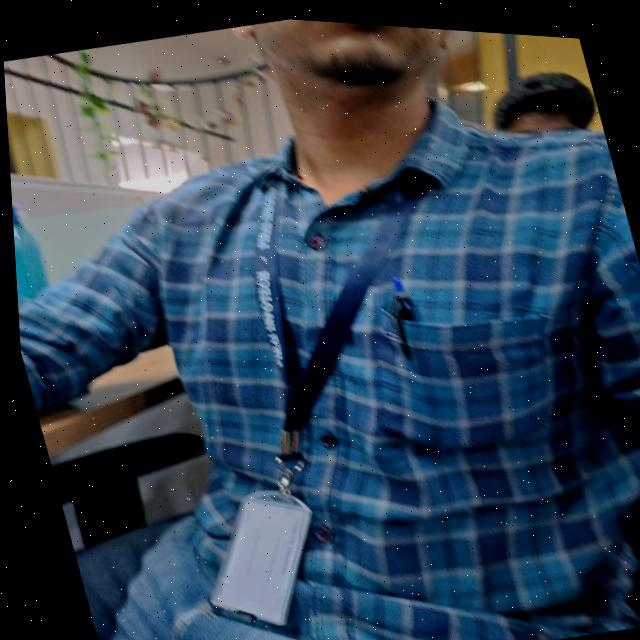id_card: (79, 105, 561, 640)
